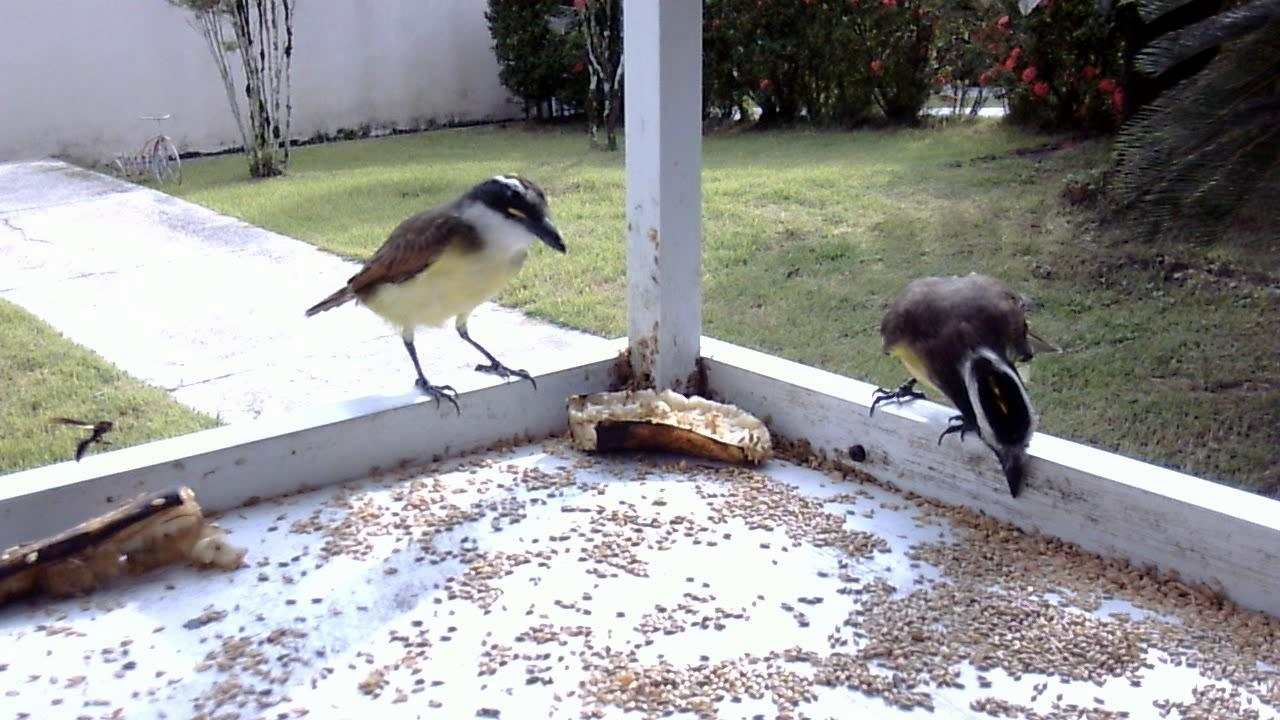bem_te_vi: (294, 163, 569, 430), (857, 263, 1057, 507)
